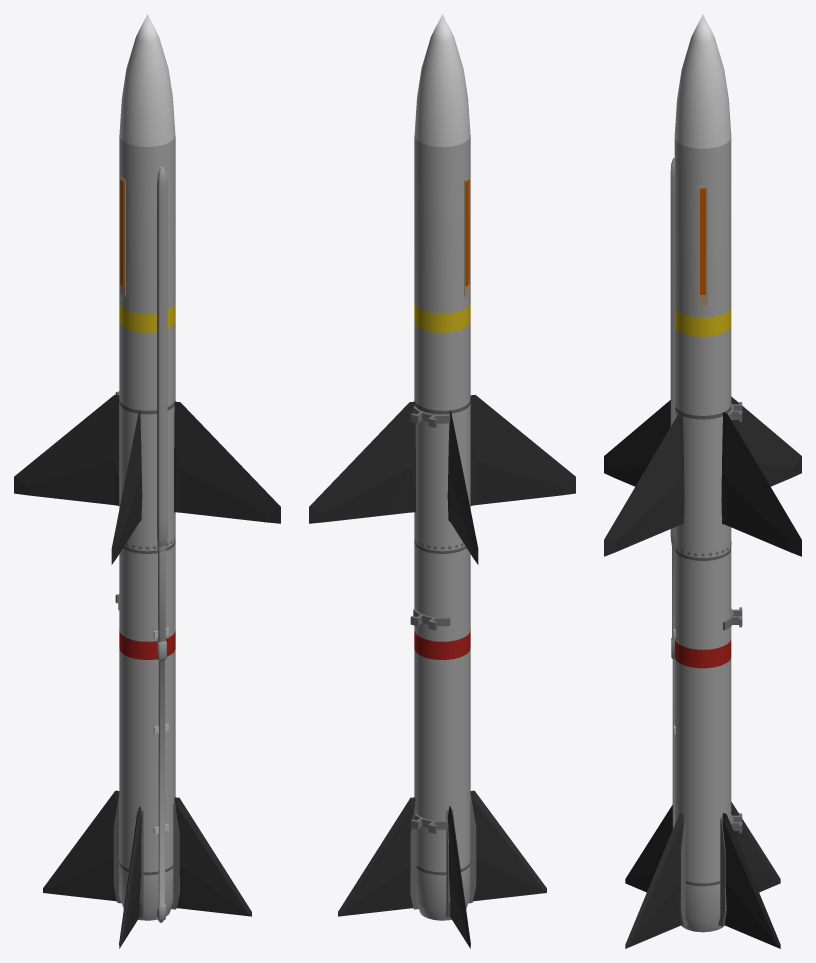
Rendered from pack1-missile-06.glb.
3 views of the same model, side by side, from view 1: azimuth 30°, elevation 25°; view 2: azimuth 150°, elevation 25°; view 3: azimuth 270°, elevation 25° (orthographic).
Parts seen in each view (by area): view 1: Missile Pack 1 #6; view 2: Missile Pack 1 #6; view 3: Missile Pack 1 #6.
Boxes of the visible parts, bbox=[...] form: Missile Pack 1 #6: bbox=[14, 14, 280, 948]; Missile Pack 1 #6: bbox=[309, 14, 575, 948]; Missile Pack 1 #6: bbox=[604, 14, 801, 948].
Bounding box in the file's own units: 0.4727 × 2.4 × 0.4727.
